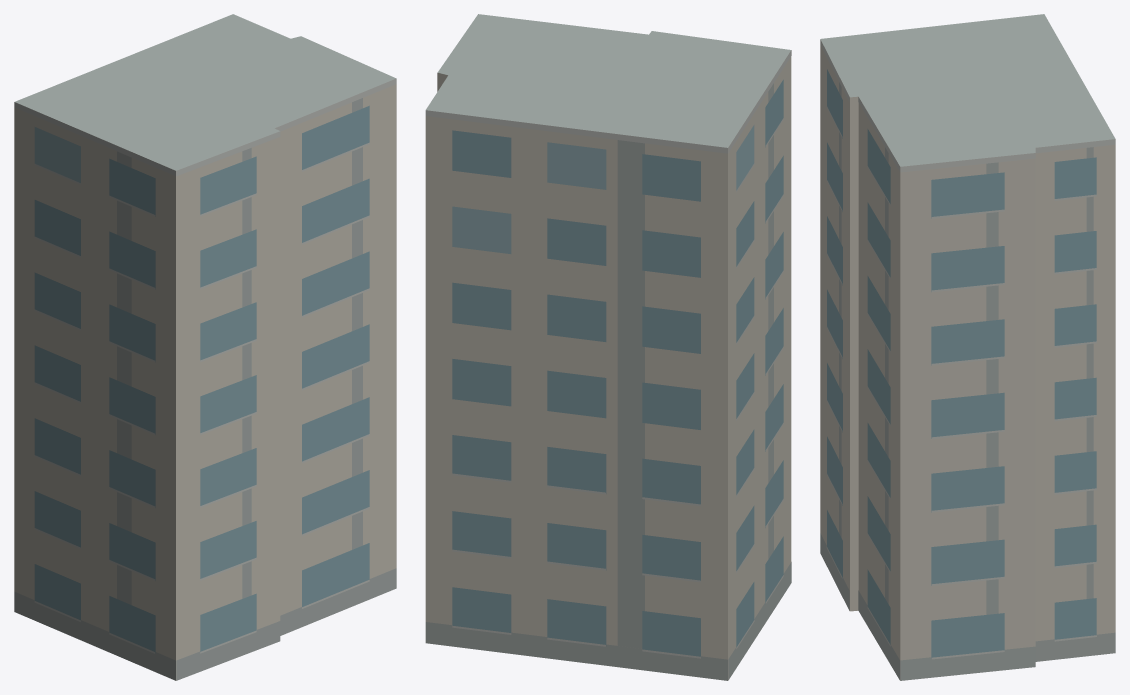
The model's file is survey-upis-32466900.glb.
The picture shows the model from 3 angles, left to right: view 1: azimuth 30°, elevation 25°; view 2: azimuth 150°, elevation 25°; view 3: azimuth 270°, elevation 25°; orthographic projection. The views are drawn at different scales.
Visible parts, largest first — view 1: survey-upis-32466900.tmp; view 2: survey-upis-32466900.tmp; view 3: survey-upis-32466900.tmp.
Part boxes in pixels (x1,y1,x2,y2): survey-upis-32466900.tmp: (14,14,396,680); survey-upis-32466900.tmp: (425,14,791,680); survey-upis-32466900.tmp: (820,14,1115,680).
Size of the model in its own units: 14.13 by 22.15 by 11.54.
